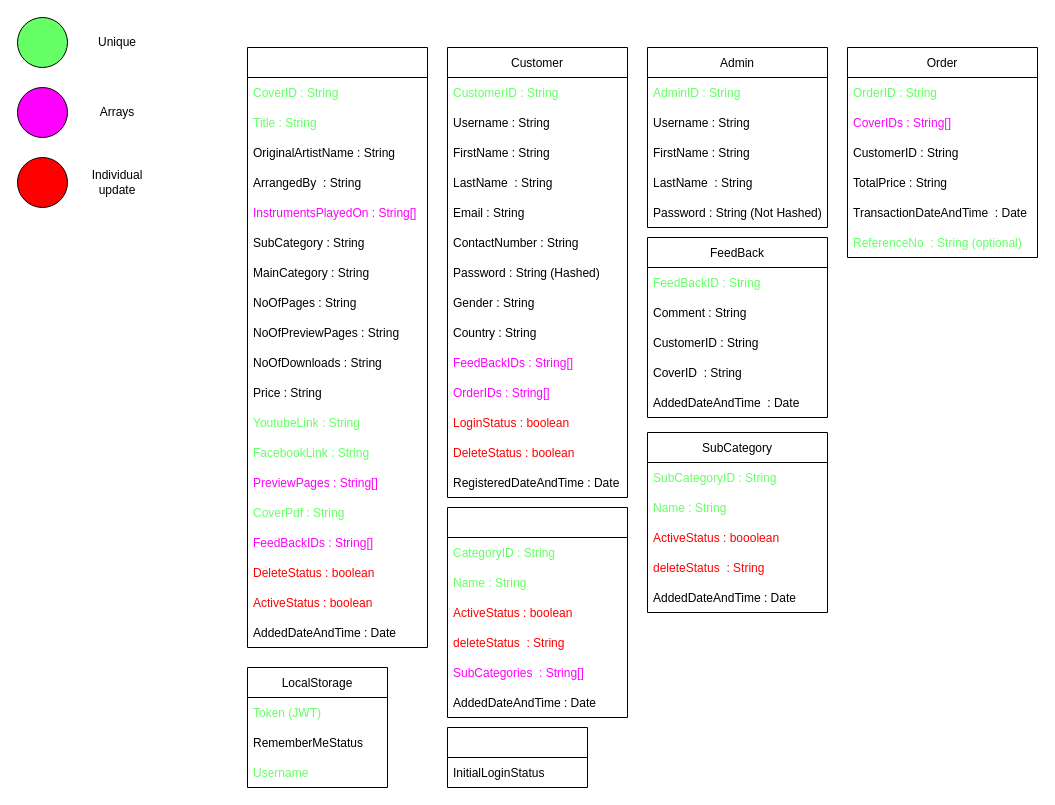
Image size: 1055x805. Some labels were removed from this diagram. The box of each missing label's shape, as (x1, y1, x2, y2) in pixels:
Cookies: (446, 726, 588, 788)
Covers: (246, 46, 428, 648)
MainCategory: (446, 506, 628, 718)
